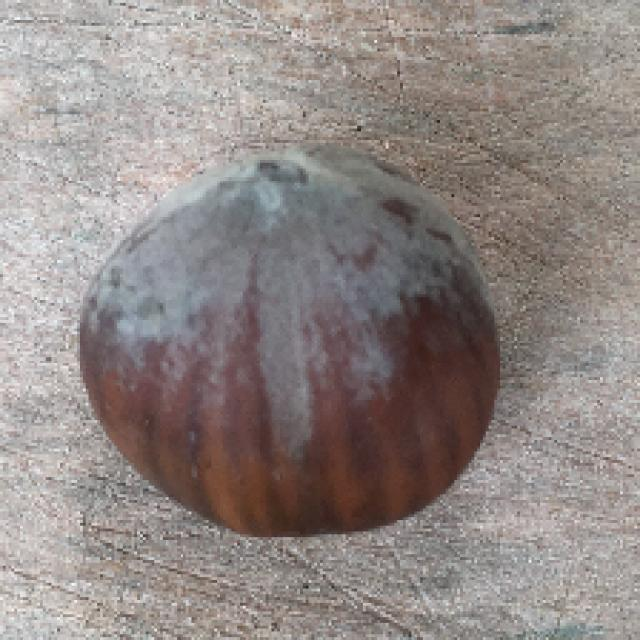damagedHazelnut: (76, 143, 513, 536)
